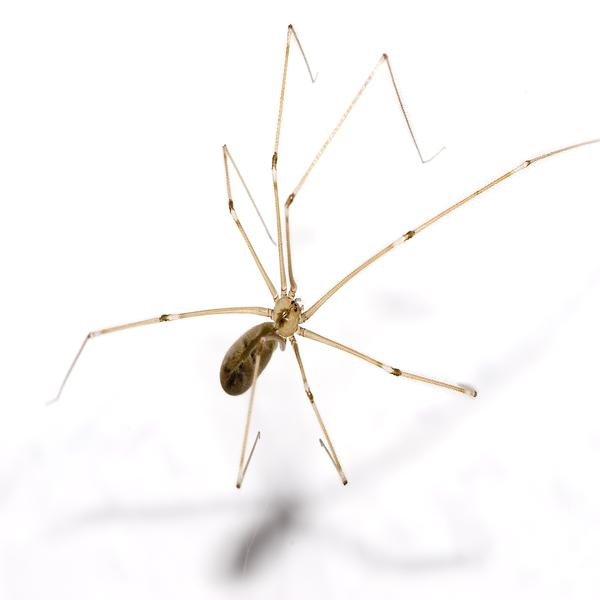Daddy Long Legs Spider: (57, 22, 586, 491)
